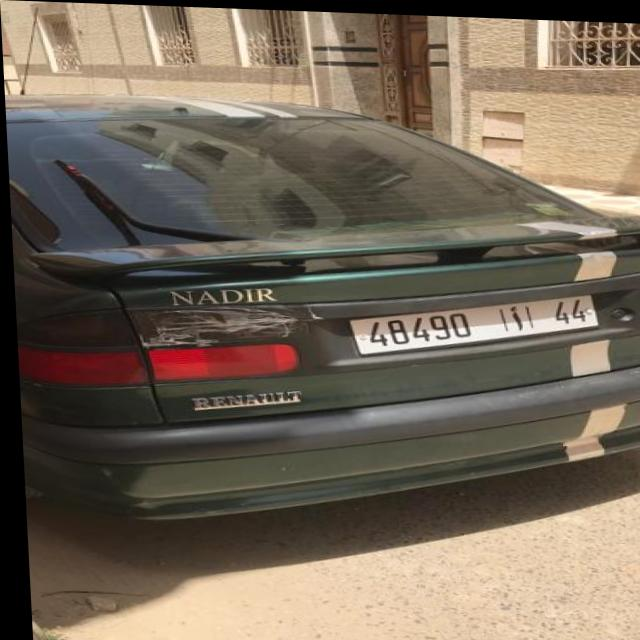License-Plate: (349, 292, 594, 352)
